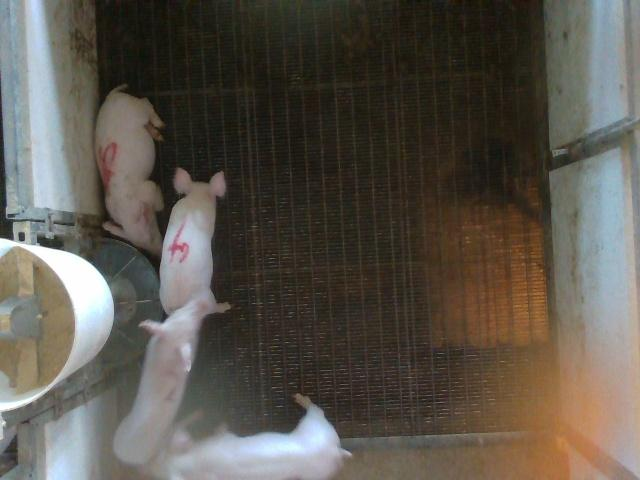pig-2: (114, 300, 211, 464)
pig-4: (160, 168, 229, 314)
pig-5: (96, 84, 164, 256)
